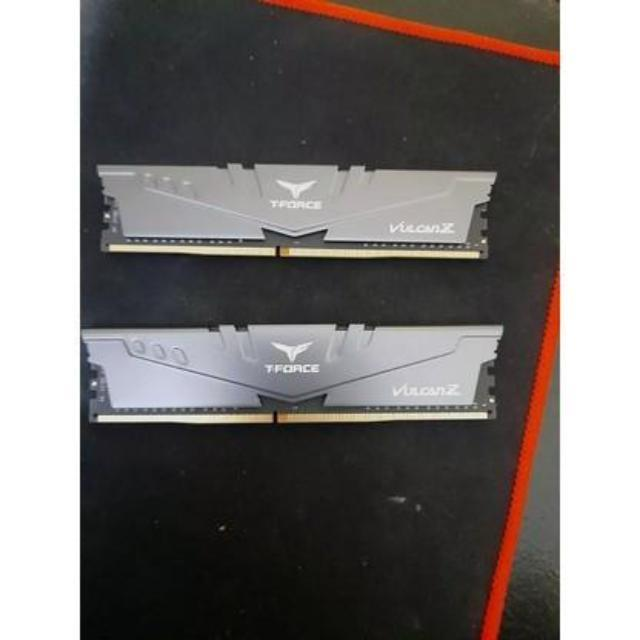RAM: (90, 142, 496, 287), (74, 313, 509, 447)
